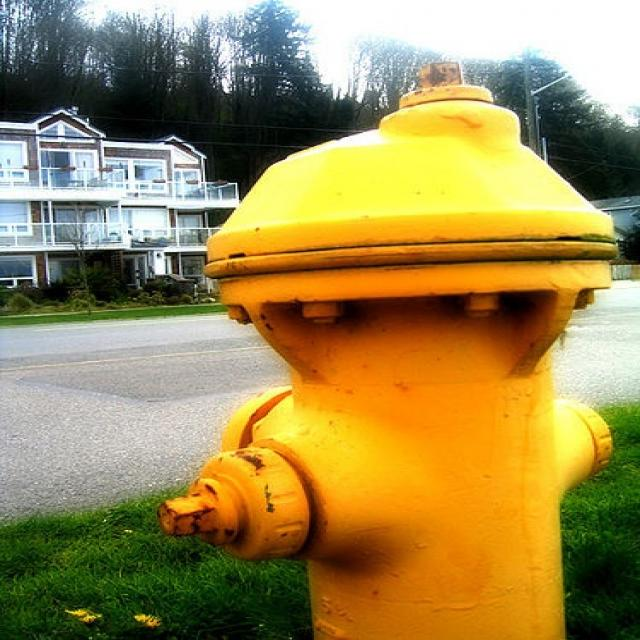fire_hydrant: (157, 51, 614, 627)
